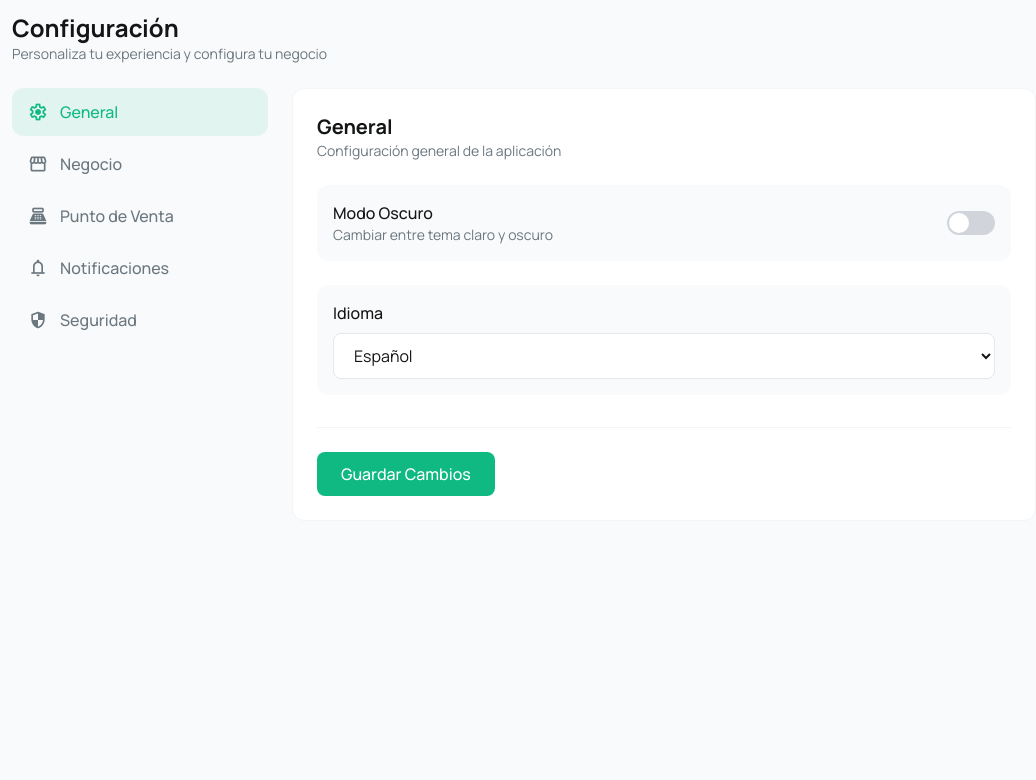
Configuracion › Section Navigation › should show POS fields after clicking POS section
Click the text "Punto de Venta" at (117, 216), box [60,204,174,228]
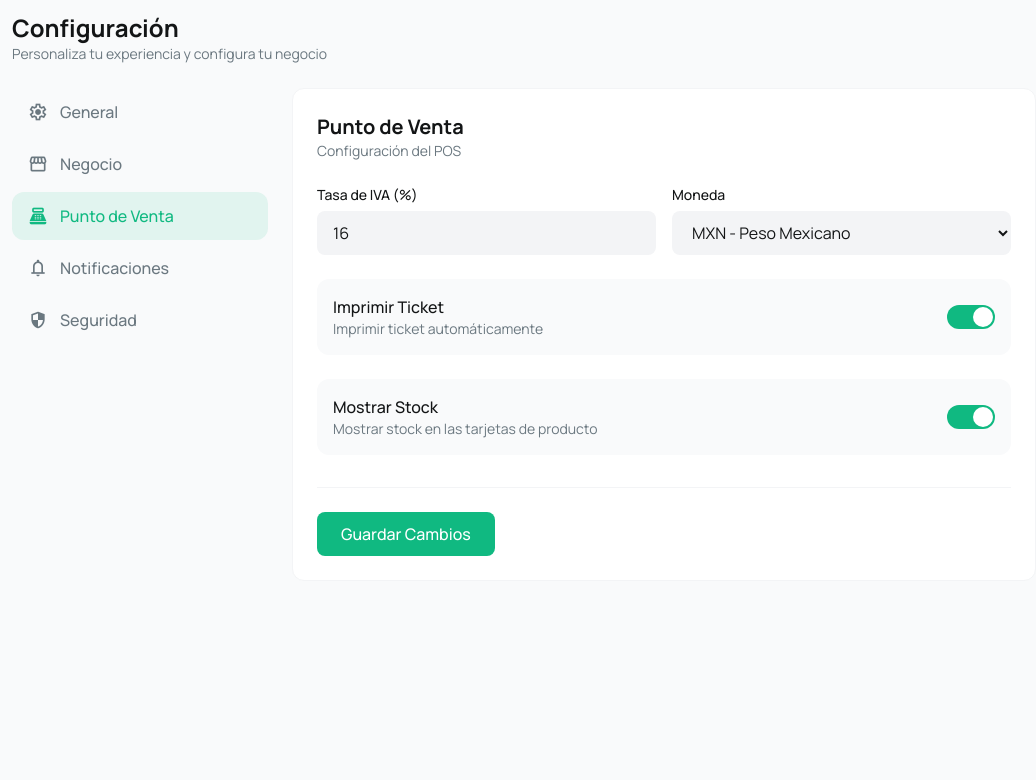
Expected: the text "Tasa de IVA (%)" is shown, [317,185,418,204]
